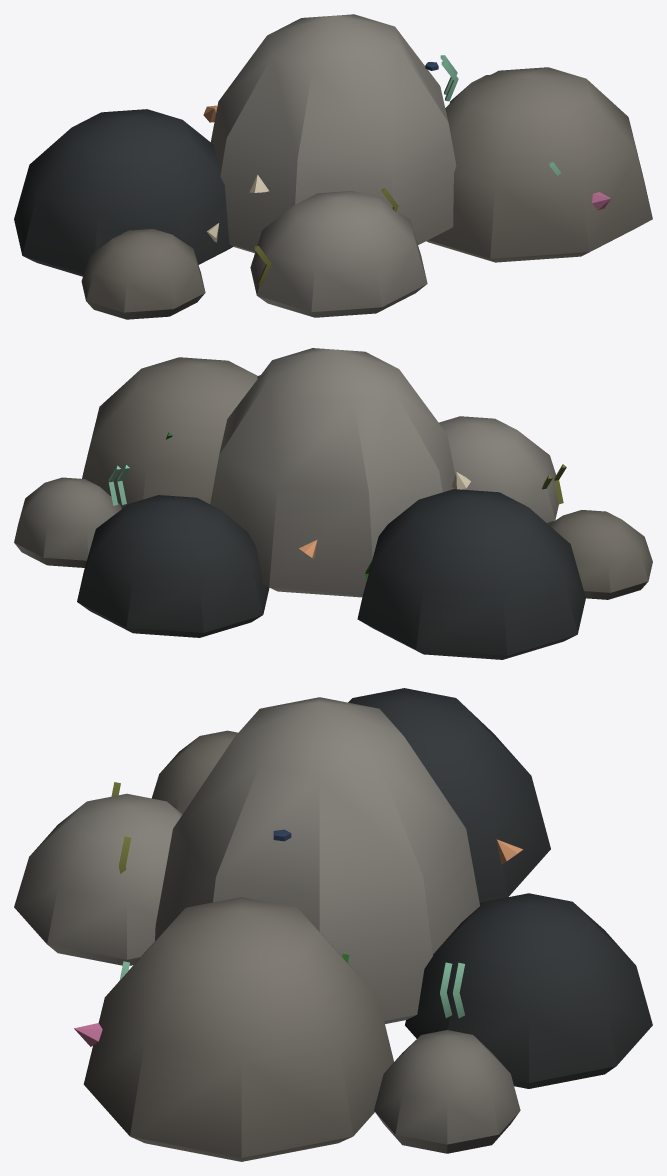
Rendered from 386_rocher_recif.fbx.
3 views of the same model, one above another, from view 1: azimuth 30°, elevation 25°; view 2: azimuth 150°, elevation 25°; view 3: azimuth 270°, elevation 25° (orthographic). The views are drawn at different scales.
Parts seen in each view (by area): view 1: Rochers, Algues; view 2: Rochers, Algues; view 3: Rochers, Algues.
Part boxes in pixels (bbox=[...]): Rochers: bbox=[14, 14, 652, 319]; Algues: bbox=[203, 55, 611, 285]; Rochers: bbox=[14, 348, 652, 659]; Algues: bbox=[108, 375, 566, 581]; Rochers: bbox=[14, 688, 652, 1161]; Algues: bbox=[74, 782, 522, 1046].
Bounding box in the file's own units: 4.48 × 1.68 × 3.36.
1 material, 1 textured.
